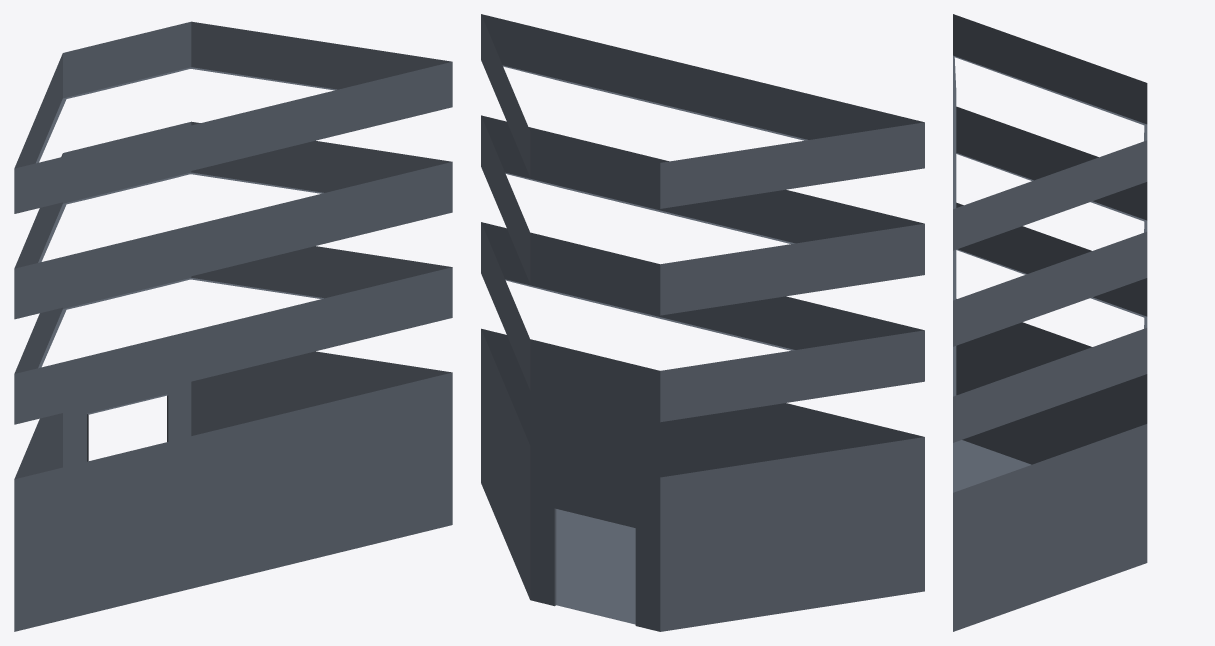
File: Bld_O_high_L1_B.fbx
3 views of the same model, side by side, from view 1: azimuth 30°, elevation 25°; view 2: azimuth 150°, elevation 25°; view 3: azimuth 270°, elevation 25° (orthographic). The views are drawn at different scales.
Parts seen in each view (by area): view 1: Bld_O_high_L1_B_LOD0; view 2: Bld_O_high_L1_B_LOD0; view 3: Bld_O_high_L1_B_LOD0.
Boxes of the visible parts, left/top/right/bottom form: Bld_O_high_L1_B_LOD0: left=14, top=21, right=452, bottom=631; Bld_O_high_L1_B_LOD0: left=481, top=14, right=924, bottom=631; Bld_O_high_L1_B_LOD0: left=953, top=14, right=1147, bottom=631.
Size of what is drawn, in the model's own units: 1380 by 1529 by 740.
Materials: 1 (1 with a texture image).
